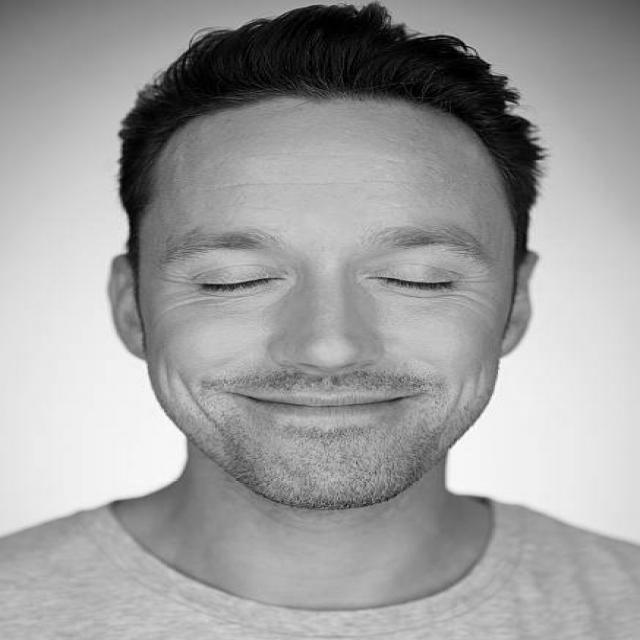real: (105, 81, 543, 510), (134, 216, 500, 308)
